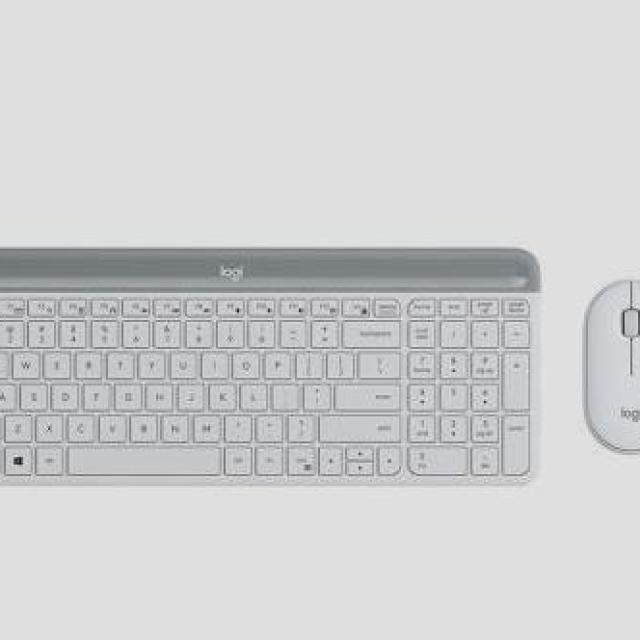keyboard: (0, 243, 542, 482)
